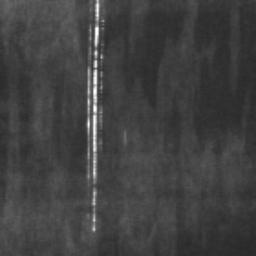Bright scratch: (87, 0, 103, 231)
